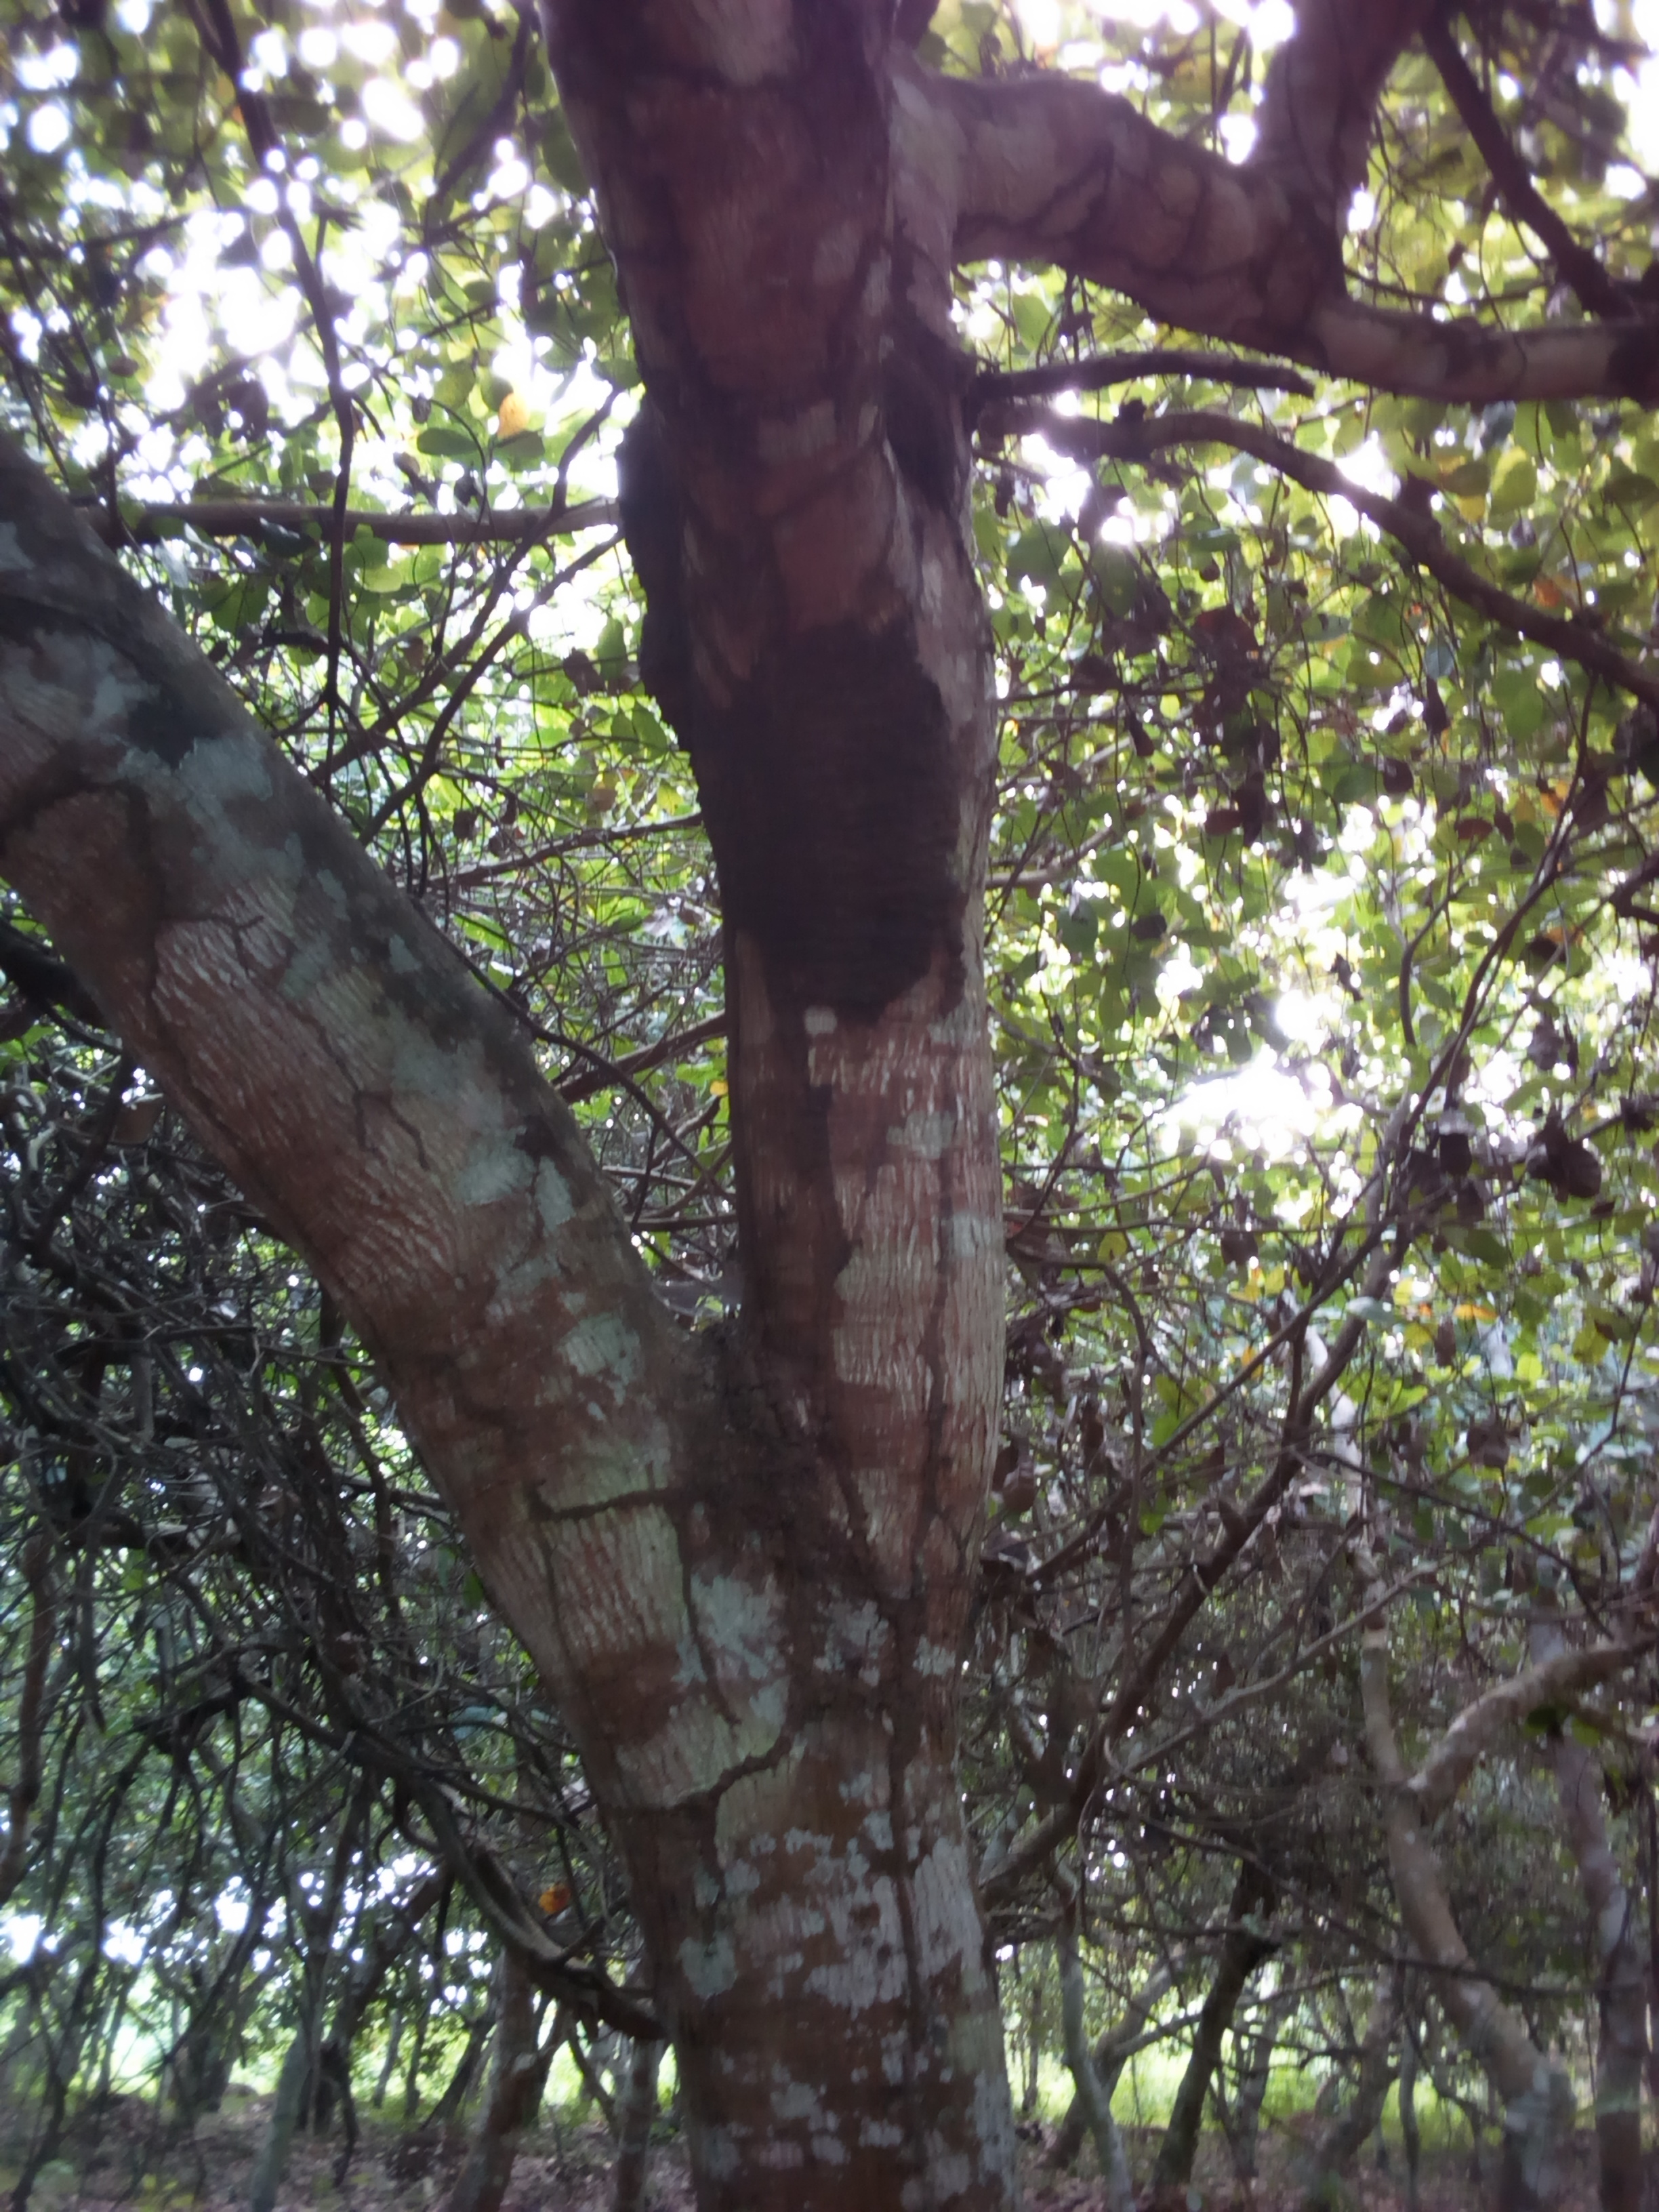Termites: (653, 1268, 927, 1766), (687, 632, 976, 1008)
